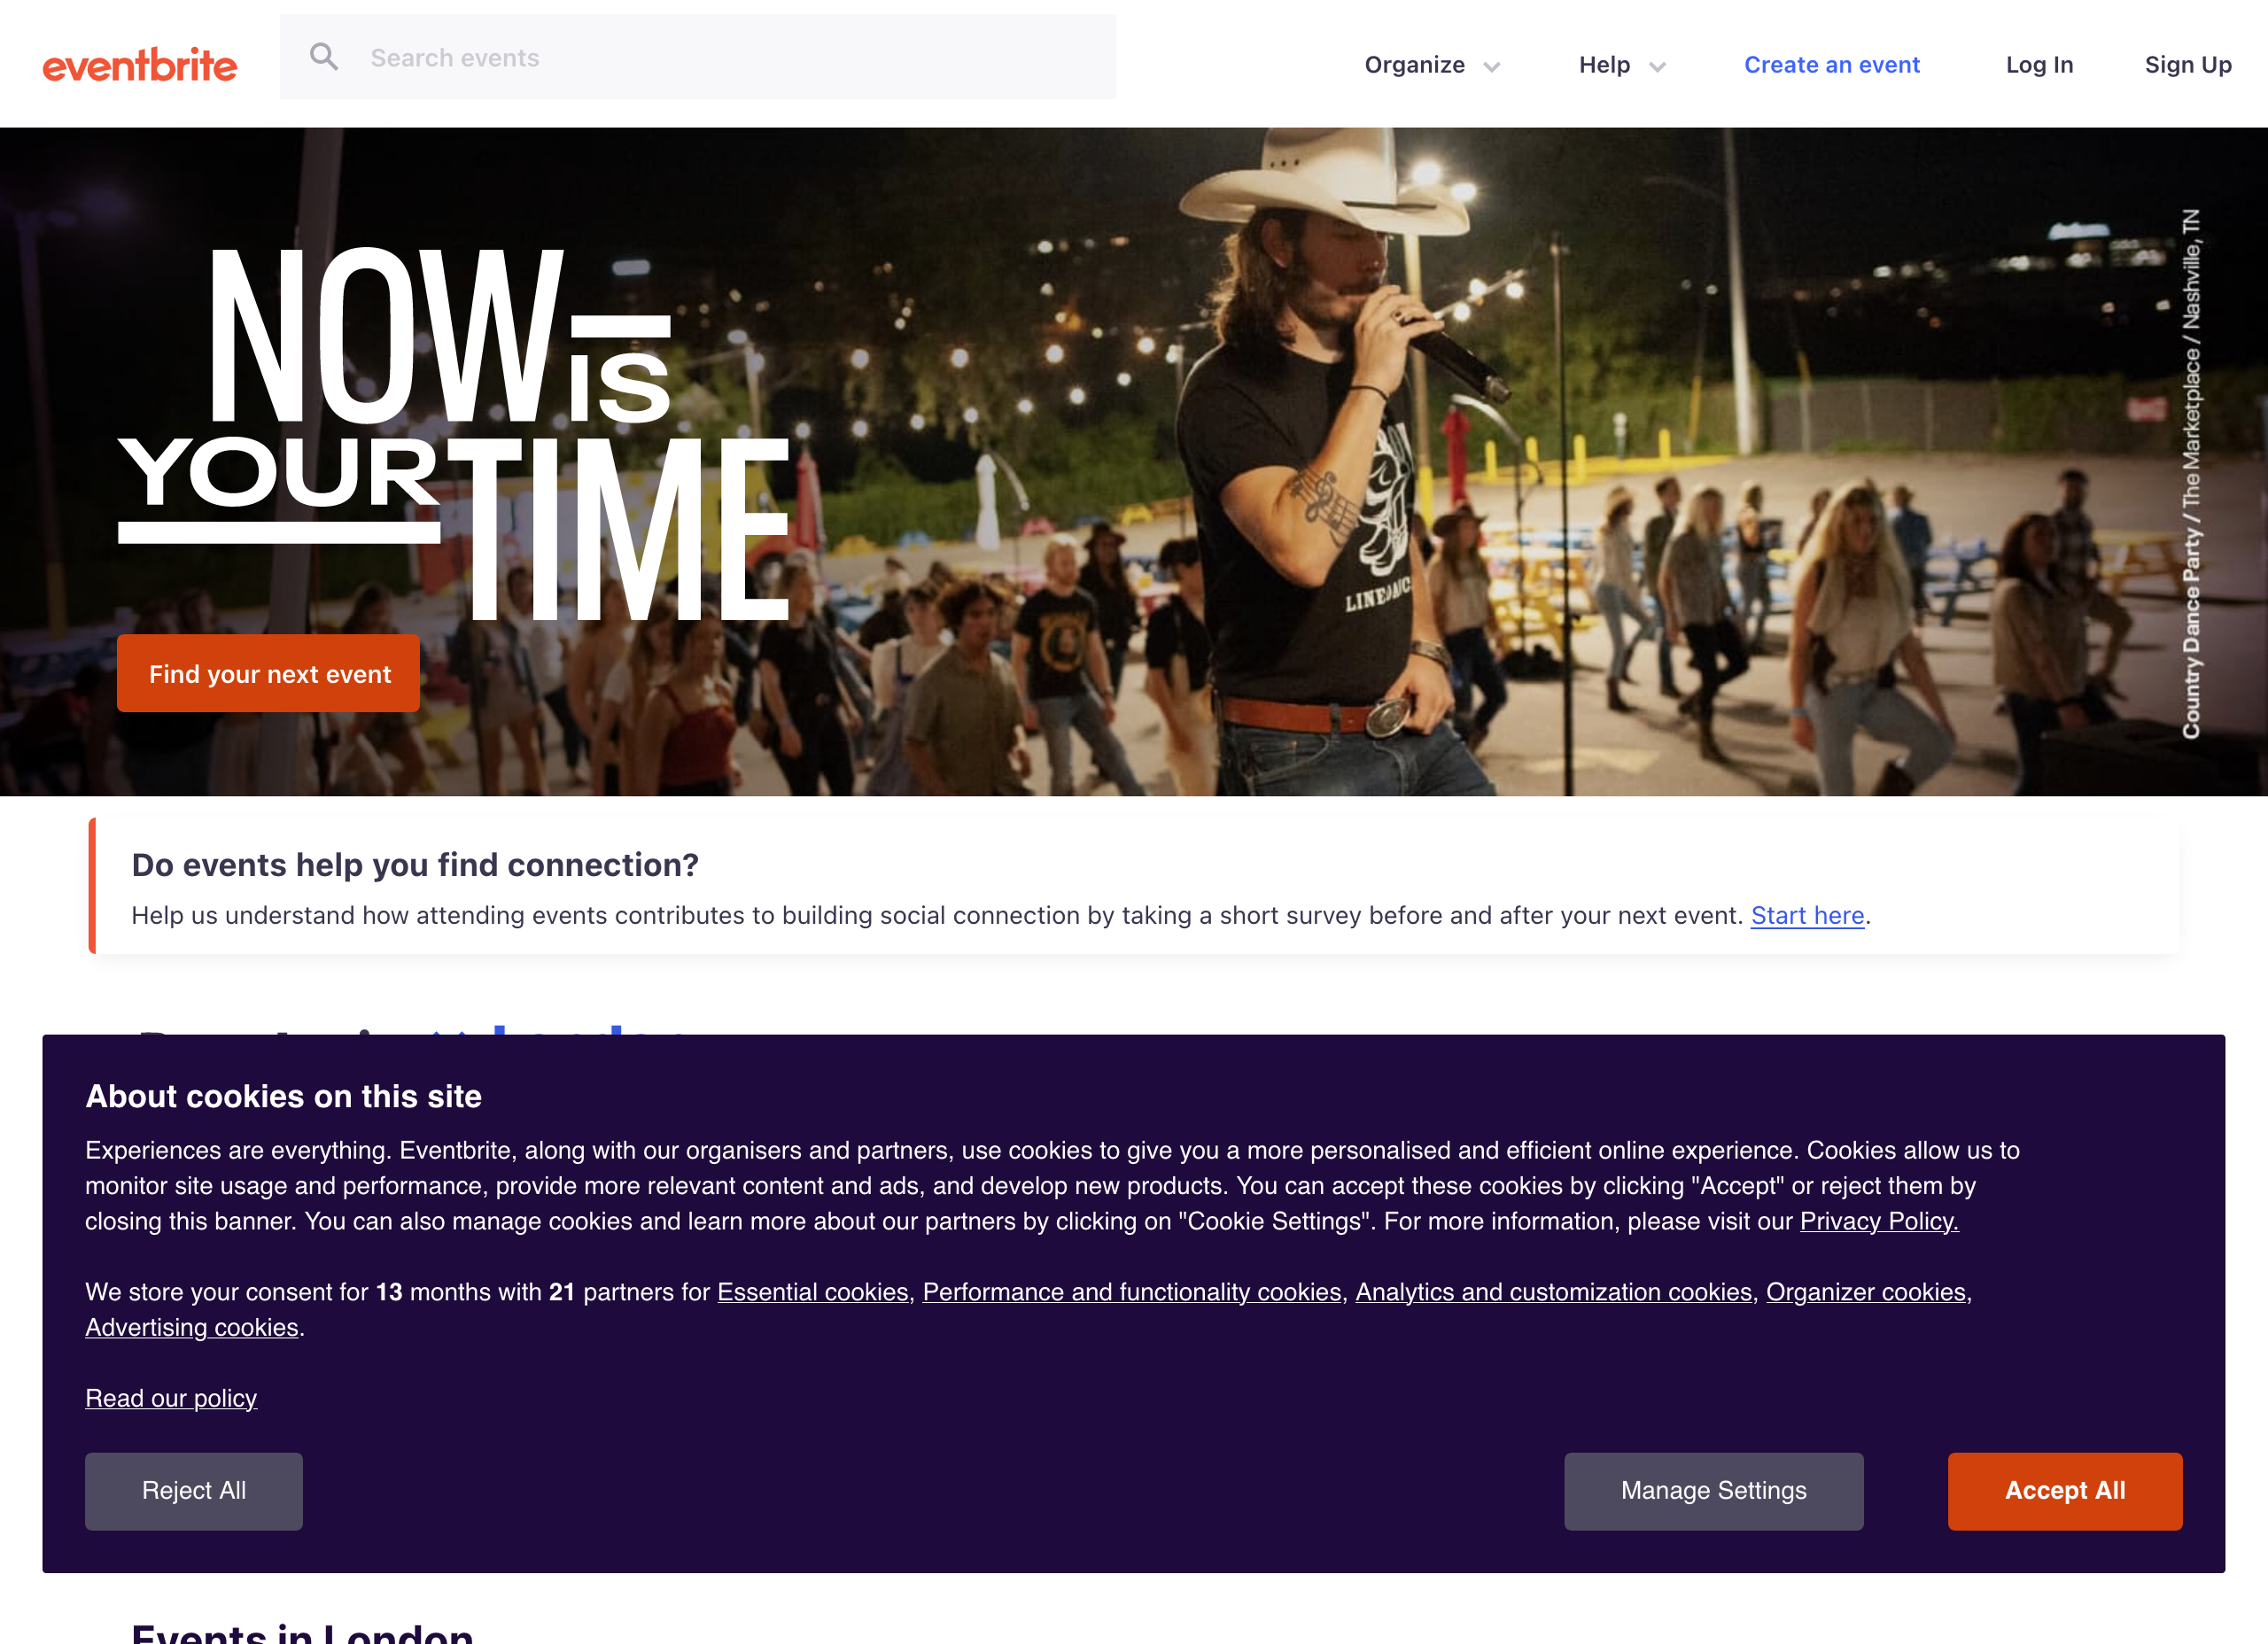Login: (1988, 35, 2095, 88)
